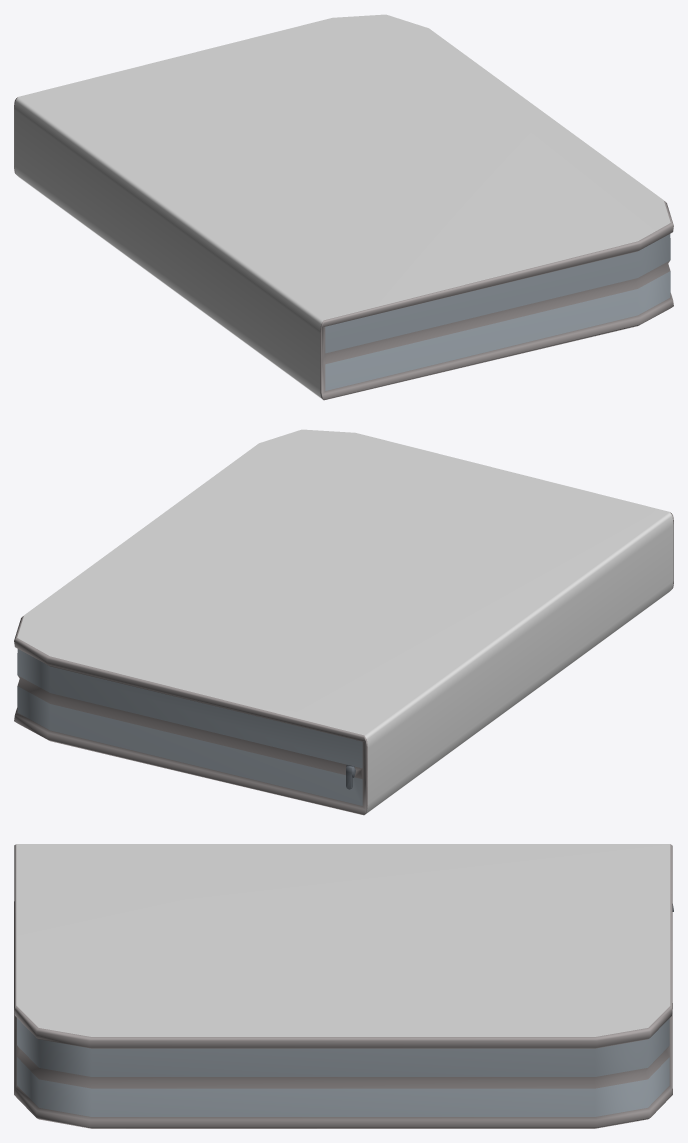
File: FlacheFedertasche.fbx
3 renders of one model, top to bottom at view 1: azimuth 30°, elevation 25°; view 2: azimuth 150°, elevation 25°; view 3: azimuth 270°, elevation 25°, orthographic. The views are drawn at different scales.
Parts seen in each view (by area): view 1: Flache Federtasche; view 2: Flache Federtasche; view 3: Flache Federtasche.
Part boxes in pixels (x1,y1,x2,y2): Flache Federtasche: [14, 14, 673, 400]; Flache Federtasche: [14, 429, 673, 815]; Flache Federtasche: [14, 844, 673, 1128].
Size of the model in its own units: 16.79 by 3.61 by 23.51.
